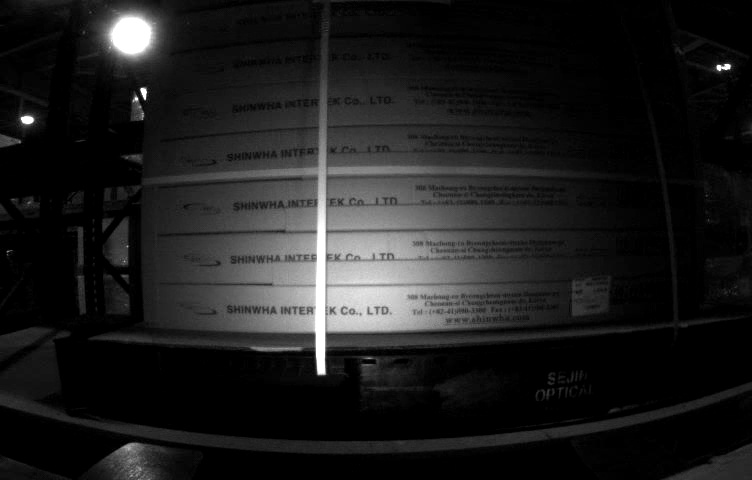True Barcode: (573, 277, 611, 315)
